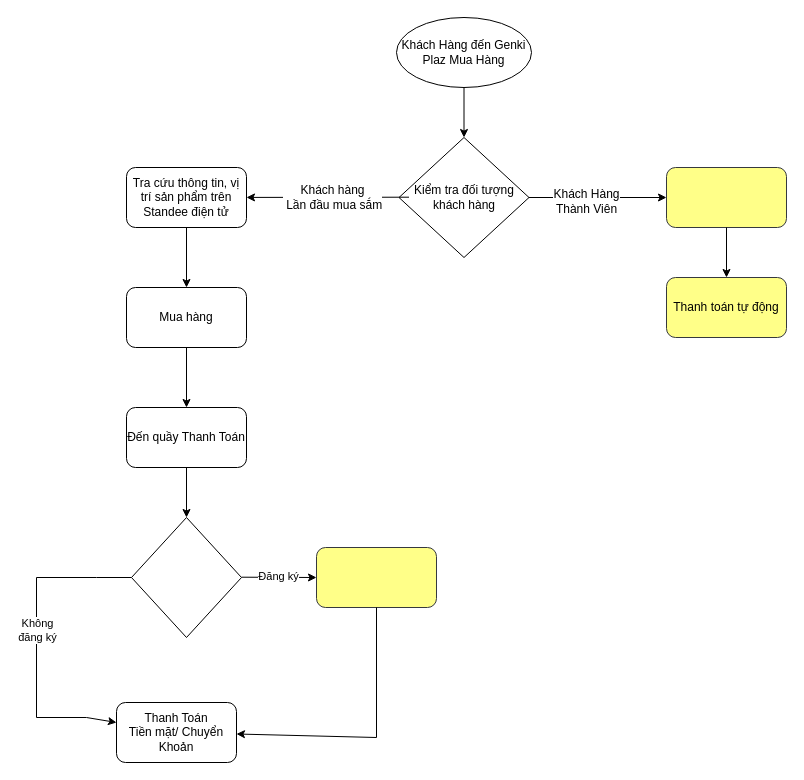
This 804x780 diagram has some shape labels left out. Each missing label, with the centre of its shape:
Hướng dẫn về quy trình mua sắm thanh toán tự động cho lần sau: point 376,577
Mua hàng bằng QR code: point 726,197
Đăng ký thành viên Geki Plaza: point 186,577
